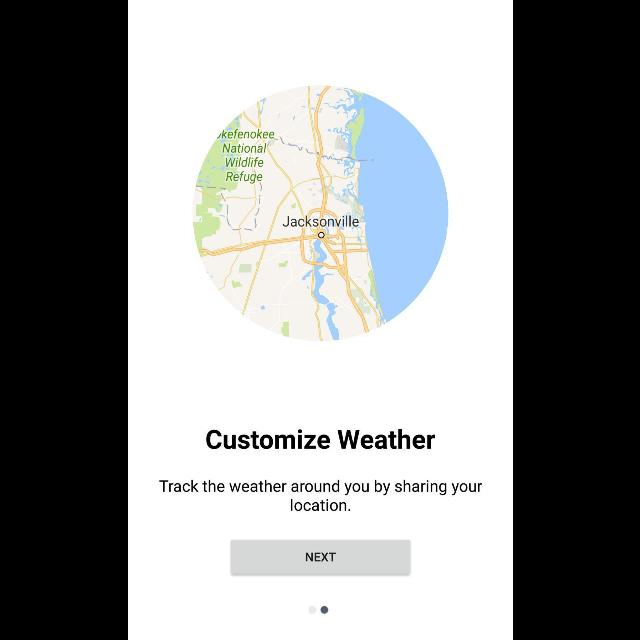image: (191, 85, 447, 342)
pageindicator: (308, 606, 328, 614)
text: (158, 479, 482, 511), (206, 428, 434, 449)
textbutton: (230, 540, 410, 576)
